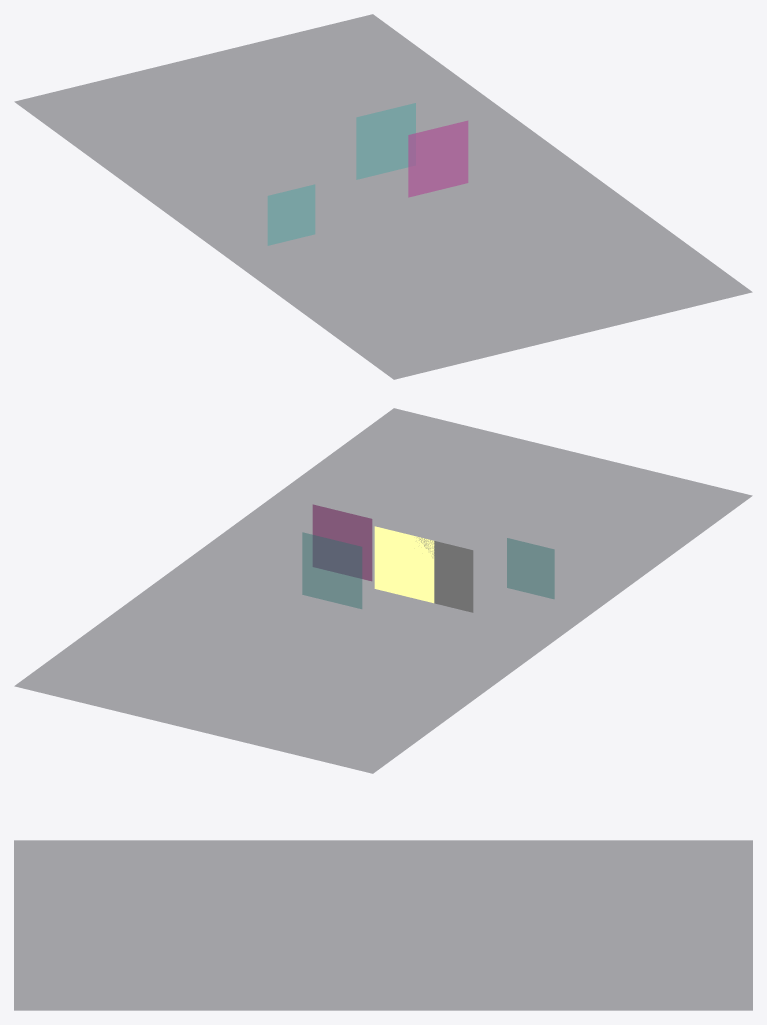
File: materials.gltf
3 views of the same model, one above another, from view 1: azimuth 30°, elevation 25°; view 2: azimuth 150°, elevation 25°; view 3: azimuth 270°, elevation 25° (orthographic). The views are drawn at different scales.
Visible parts, largest first — view 1: ground, blend_far, blend_near, blend_behind_opaque; view 2: ground, emissive, blend_near, blend_far, opaque, blend_behind_opaque; view 3: ground.
Boxes of the visible parts, x1,y1,x2,y2 form: ground: (14,14,752,379); blend_far: (408,120,468,197); blend_near: (356,103,415,179); blend_behind_opaque: (267,184,315,245); ground: (14,408,752,773); emissive: (374,526,434,603); blend_near: (302,532,362,608); blend_far: (312,504,372,581); opaque: (417,537,473,612); blend_behind_opaque: (507,538,554,598); ground: (14,840,752,1010).
Bounding box in the file's own units: 12 × 2 × 22.
